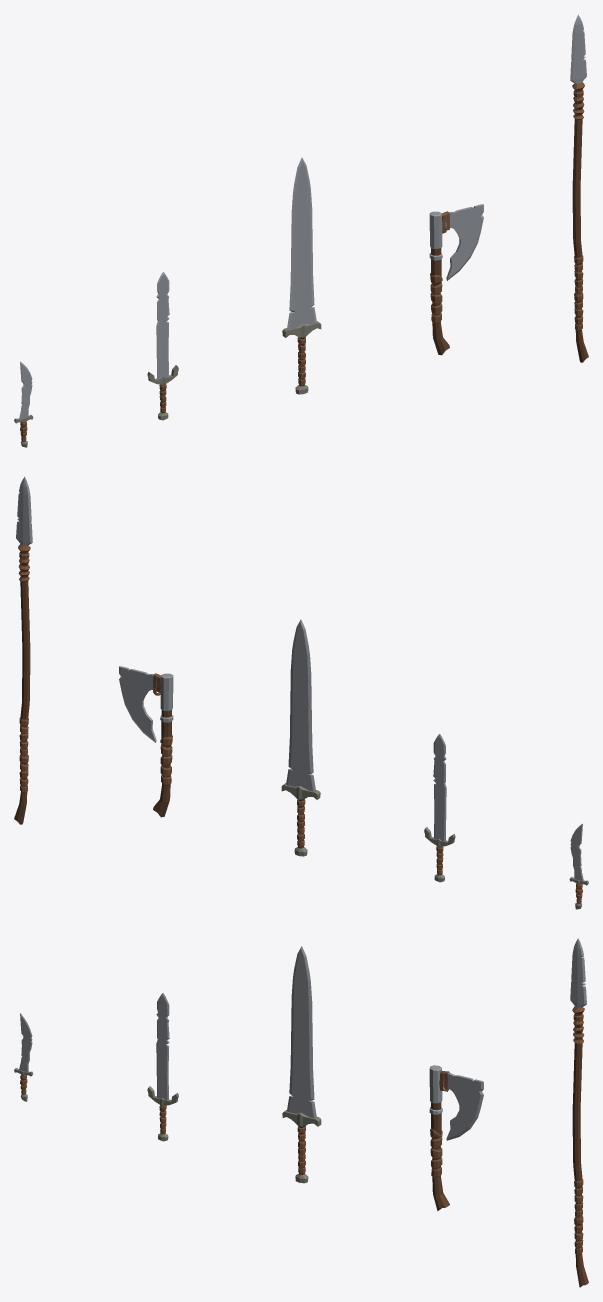
File: weapons.glb
3 renders of one model, top to bottom at view 1: azimuth 30°, elevation 25°; view 2: azimuth 150°, elevation 25°; view 3: azimuth 330°, elevation 25°, orthographic.
Parts seen in each view (by area): view 1: longsword, axe, spear, sword, dagger; view 2: longsword, axe, spear, sword, dagger; view 3: longsword, axe, spear, sword, dagger.
Part boxes in pixels (x1,y1,x2,y2): longsword: (282, 157, 321, 394); axe: (429, 204, 483, 355); spear: (570, 14, 588, 362); sword: (147, 272, 178, 420); dagger: (14, 361, 33, 447); longsword: (281, 619, 320, 856); axe: (119, 666, 173, 817); spear: (14, 476, 32, 824); sword: (424, 734, 455, 882); dagger: (569, 823, 588, 909); longsword: (282, 946, 321, 1183); axe: (429, 1065, 483, 1210); spear: (570, 938, 588, 1287); sword: (147, 993, 178, 1141); dagger: (14, 1013, 33, 1101).
Bounding box in the file's own units: 4.13 × 2.4 × 0.0823.
